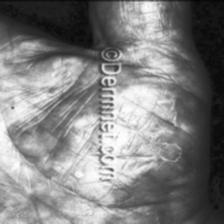Non-Cancerous Skin Condition: (129, 80, 191, 173), (72, 169, 85, 177)
